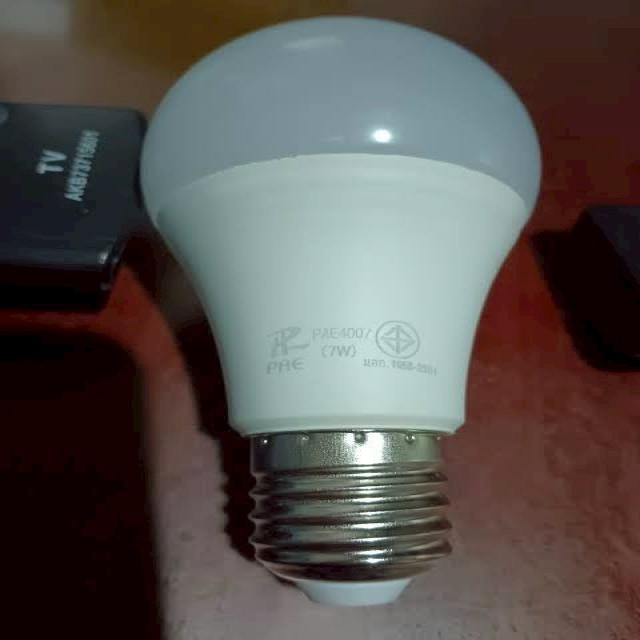bulb: (148, 31, 540, 600)
